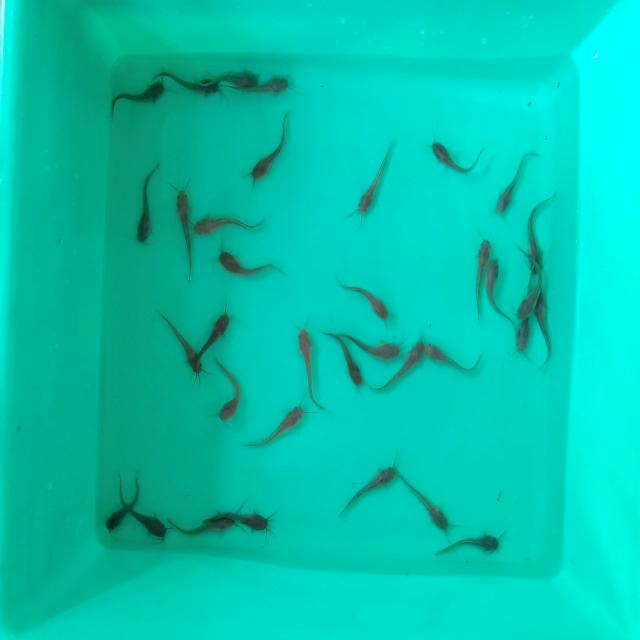lele: (351, 136, 394, 223), (157, 310, 206, 384), (420, 334, 486, 382), (332, 463, 394, 514), (399, 470, 451, 530), (495, 149, 543, 210), (294, 317, 326, 403), (255, 400, 303, 457), (164, 54, 222, 100), (343, 272, 392, 324), (250, 117, 286, 185), (424, 136, 485, 174), (386, 337, 422, 399), (109, 80, 164, 120), (214, 248, 284, 279), (135, 164, 160, 250), (326, 333, 362, 392), (172, 194, 195, 282), (173, 510, 234, 540), (215, 358, 243, 423), (218, 57, 261, 99), (526, 192, 553, 258), (229, 501, 281, 534), (128, 500, 167, 544), (197, 209, 264, 234), (535, 289, 556, 364), (469, 235, 489, 312), (258, 73, 300, 109), (438, 533, 506, 555), (202, 300, 229, 354), (346, 337, 404, 362), (517, 260, 540, 317), (486, 256, 504, 326), (106, 493, 132, 530), (514, 313, 533, 361)
